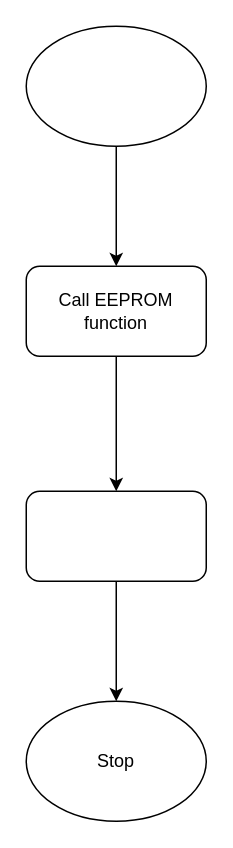
Some shapes in this 233 by 848 pixel diagram are drawn without their labels. Each missing label, with the centre of its shape:
"Infinite loop" goes at point 115,535.
"Start" goes at point 115,85.
